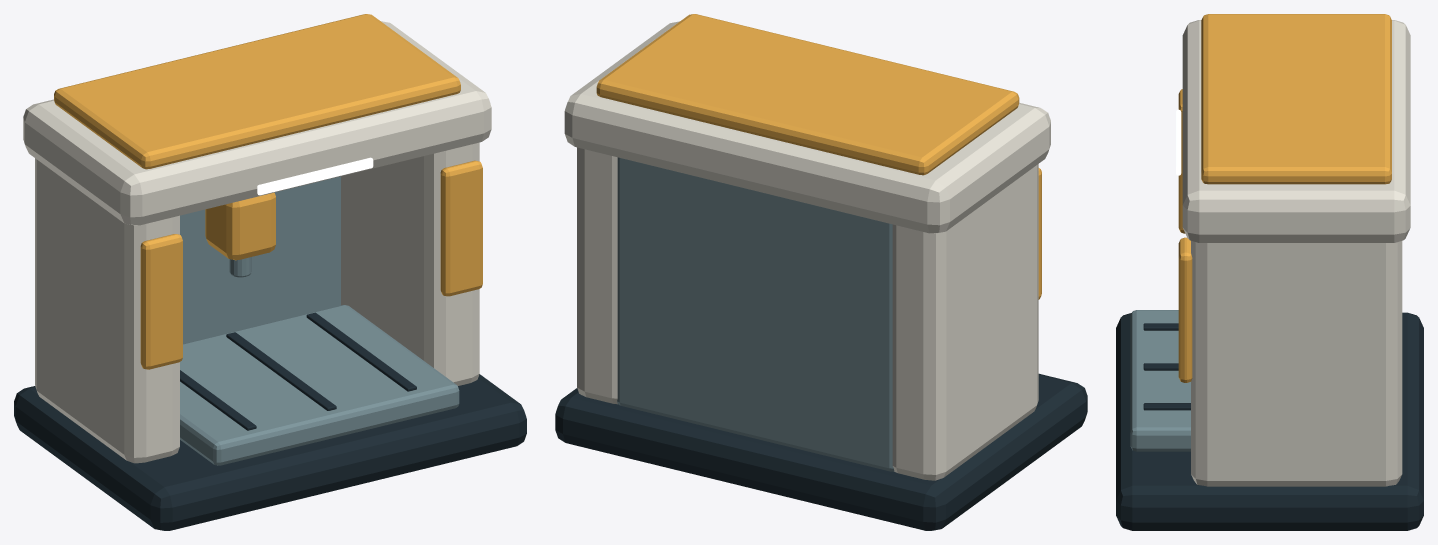
Rendered from prop_workshop.glb.
3 views of the same model, side by side, from view 1: azimuth 30°, elevation 25°; view 2: azimuth 150°, elevation 25°; view 3: azimuth 270°, elevation 25° (orthographic). The views are drawn at different scales.
Visible parts, largest first — view 1: roof_accent, gantry_leg, workshop_base, work_bed, gantry_roof, gantry_leg.001, rear_wall, gantry_accent, gantry_accent.001, tool_head, work_light, bed_rail.002 (+2 smaller); view 2: rear_wall, roof_accent, gantry_leg, gantry_roof, workshop_base, gantry_leg.001; view 3: gantry_leg.001, roof_accent, workshop_base, gantry_roof, work_bed, gantry_accent.001, gantry_accent, work_light, bed_rail.002.
Part boxes in pixels (x1,y1,x2,y2): roof_accent: (54,14,460,169); gantry_leg: (35,158,179,463); workshop_base: (14,374,526,530); work_bed: (180,305,459,465); gantry_roof: (23,21,491,225); gantry_leg.001: (341,142,479,385); rear_wall: (180,176,340,343); gantry_accent: (140,234,182,369); gantry_accent.001: (440,160,482,296); tool_head: (205,192,275,260); work_light: (257,157,373,195); bed_rail.002: (306,312,416,391); rear_wall: (617,157,894,471); roof_accent: (596,14,1019,175); gantry_leg: (892,164,1038,480); gantry_roof: (564,21,1050,233); workshop_base: (555,373,1087,530); gantry_leg.001: (577,147,617,404); gantry_leg.001: (1191,241,1402,486); roof_accent: (1201,14,1391,184); workshop_base: (1116,312,1423,530); gantry_roof: (1182,20,1410,242); work_bed: (1130,310,1190,451); gantry_accent.001: (1178,237,1192,382); gantry_accent: (1178,89,1185,233); work_light: (1176,109,1181,175); bed_rail.002: (1143,403,1190,410).
Size of the model in its own units: 2.15 by 1.9 by 1.5.
